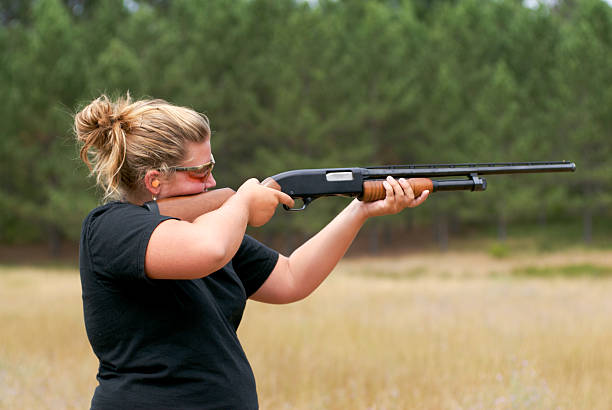shotgun: (149, 159, 581, 226)
